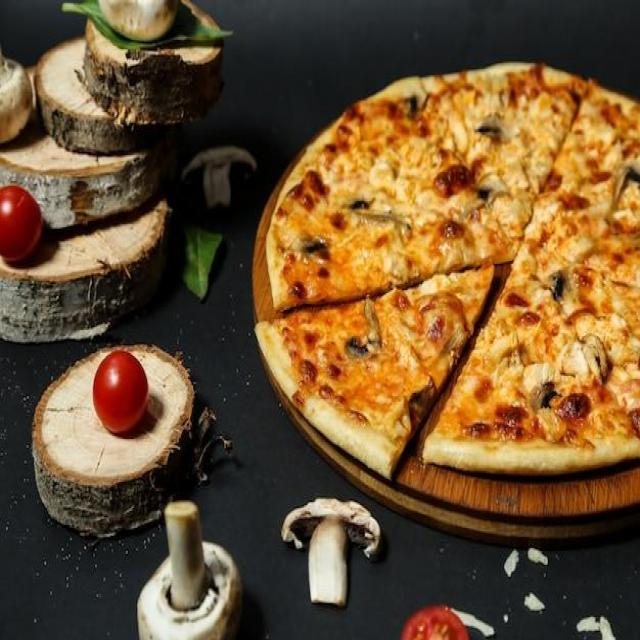olive: (345, 336, 381, 358), (551, 277, 566, 297), (304, 242, 326, 254), (541, 392, 557, 408), (474, 127, 502, 135), (348, 200, 369, 210), (478, 188, 491, 201)
pizza: (254, 61, 639, 484)
